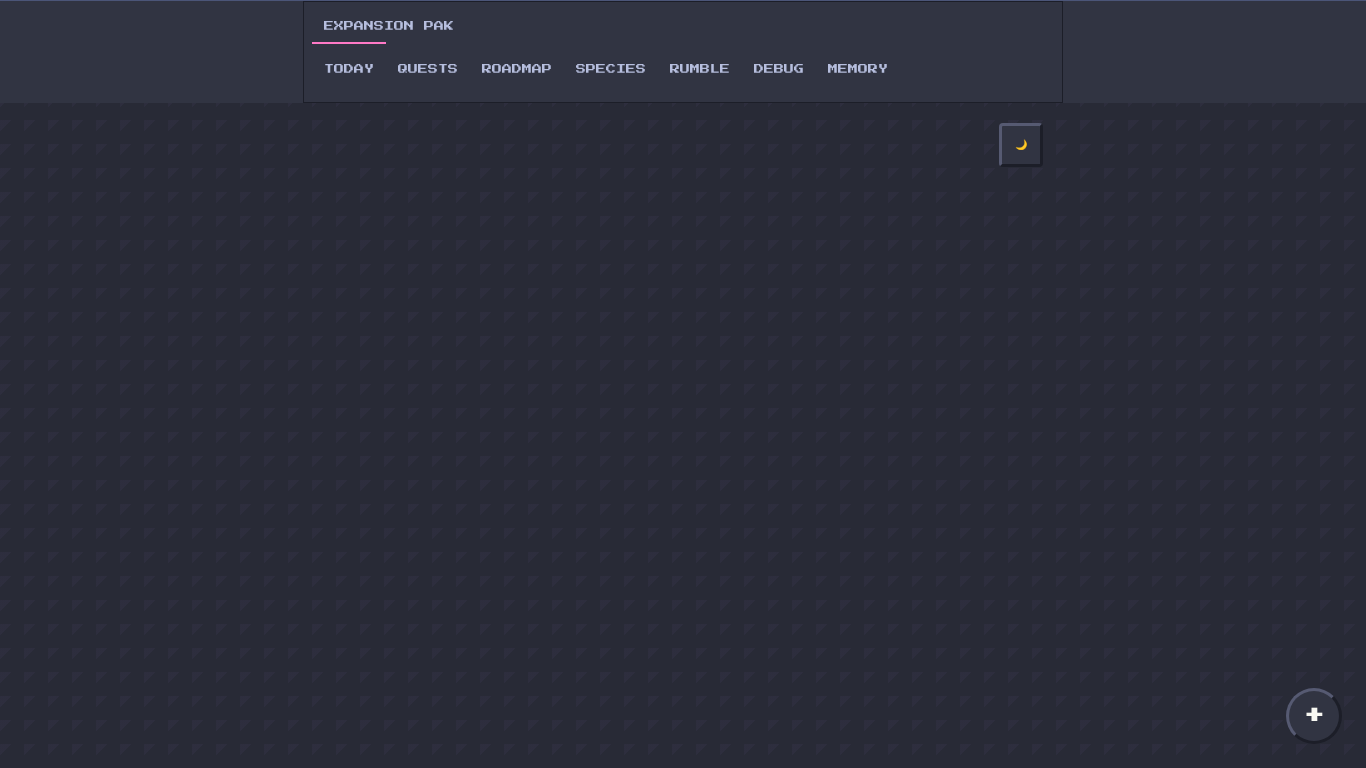
Test case: Pak shell › navigates to the Debug Menu
What coordinates should you click on to do the following:
click the link "DEBUG"
I would click on:
 (779, 69)
Its box is [754,64,804,74].
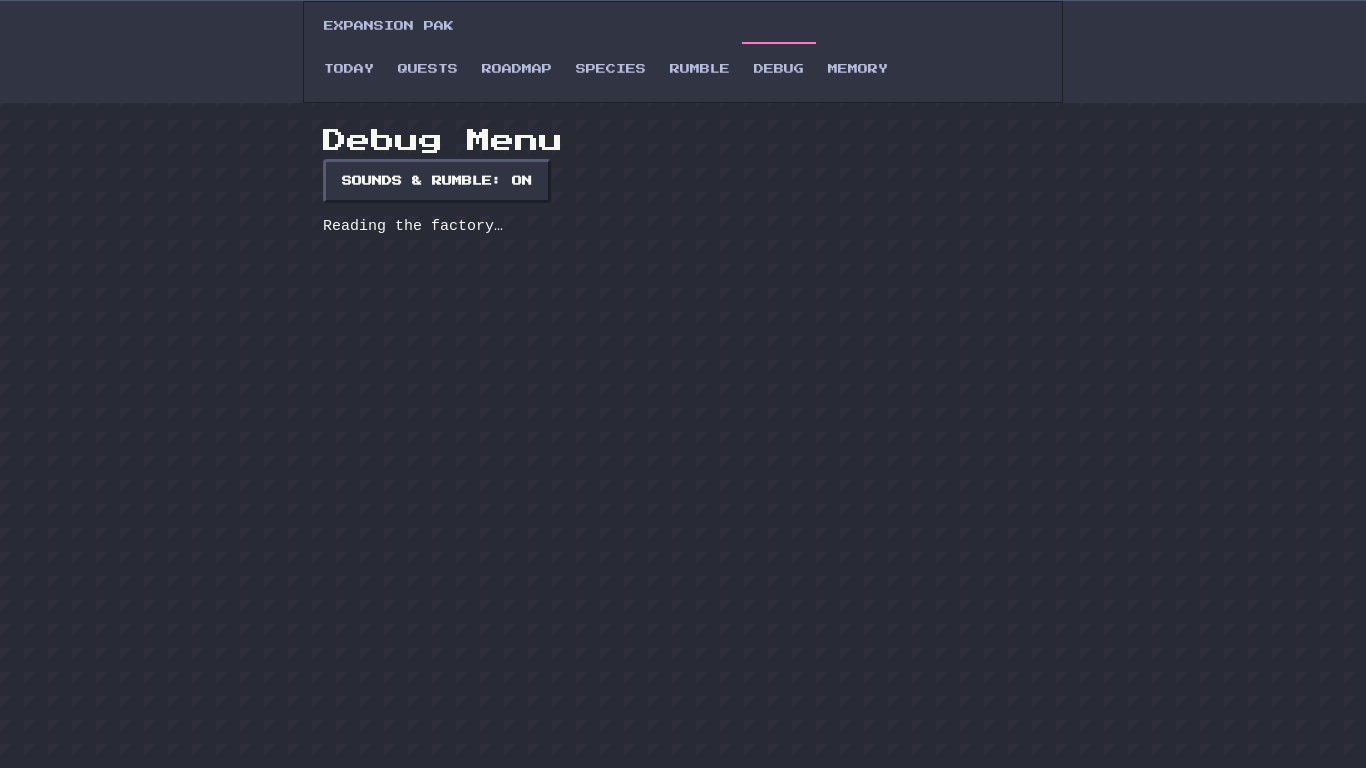
Result: the heading "Debug Menu" is shown at [323,129,563,153]
Result: the text "Reading the factory…" is shown at [323,218,503,235]
